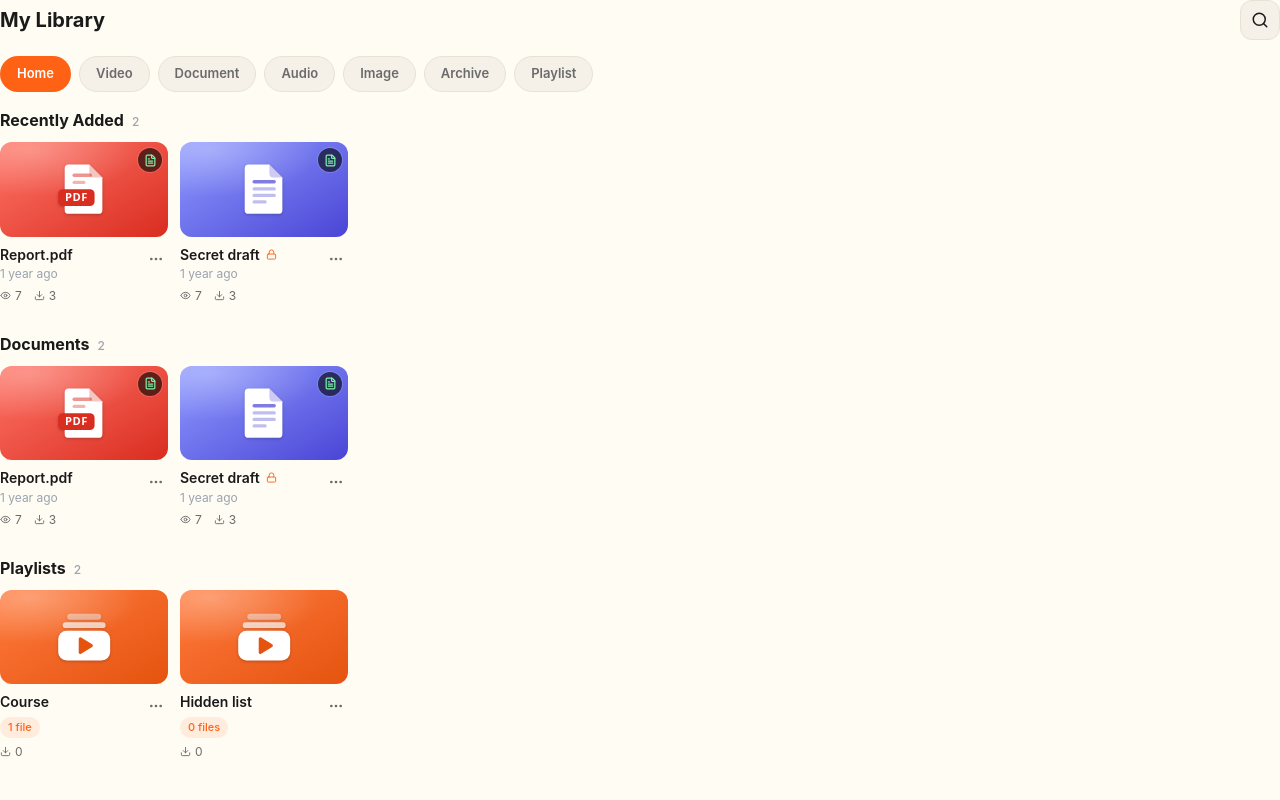
Test case: Edit Details — thumbnail (merged in; there is no separate Change Thumbnail) › the Edit Details sheet contains Title, Description AND Thumbnail controls
Click the button named "More actions for Report.pdf" below "Recently Added": [156, 258] box [136,238,176,278]
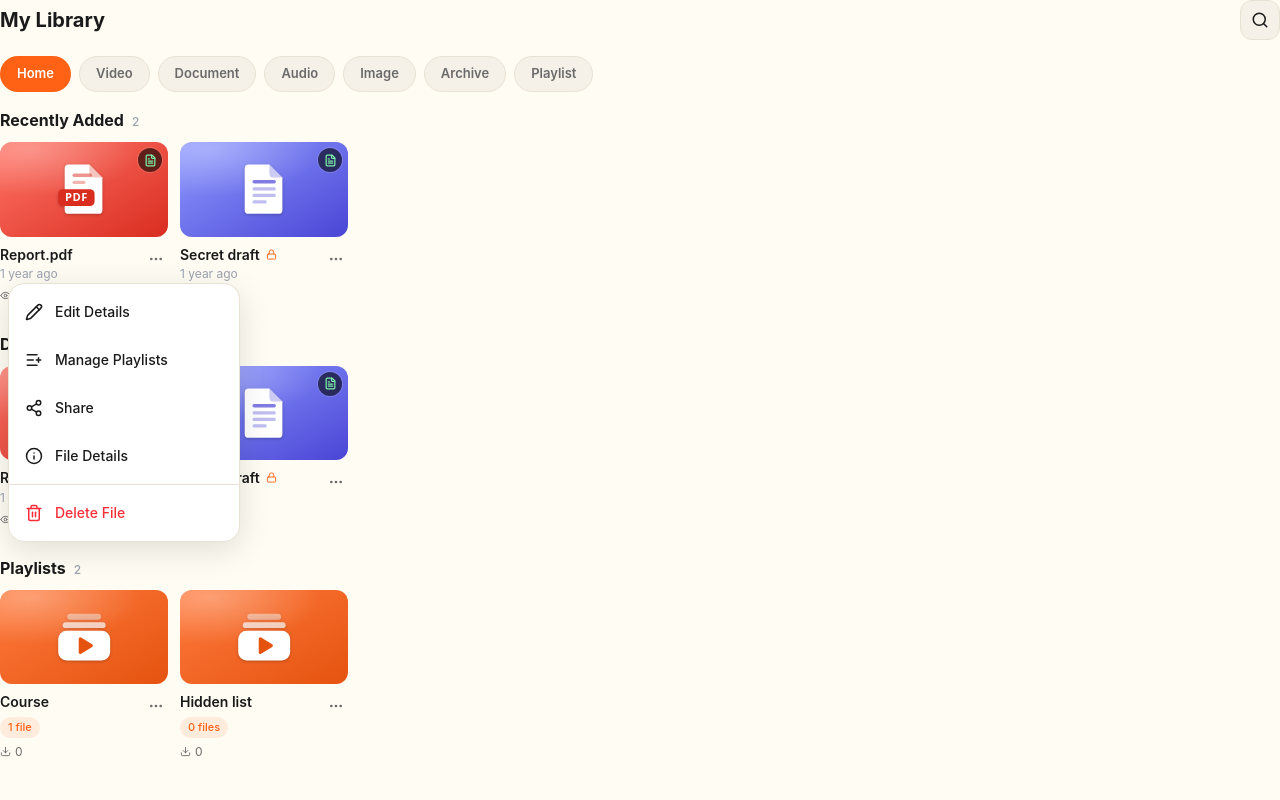
Click the menu item "Edit Details": [124, 312] box [9,288,239,336]
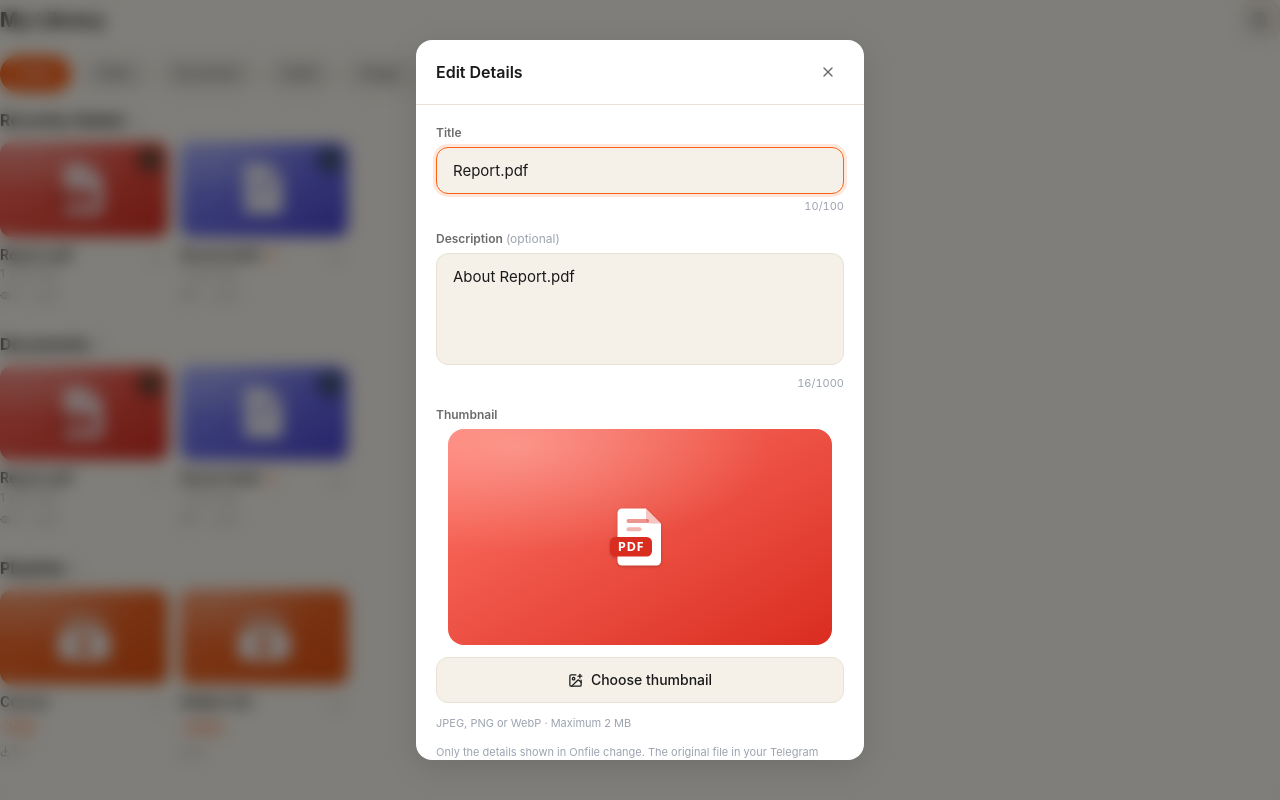
Expected: the field with id "edit-file-title" is shown, [436,147,844,194]
Expected: the text box with id "edit-file-description" is shown, [436,253,844,365]
Expected: the element with test id "thumbnail-editor" is shown, [436,429,844,732]
